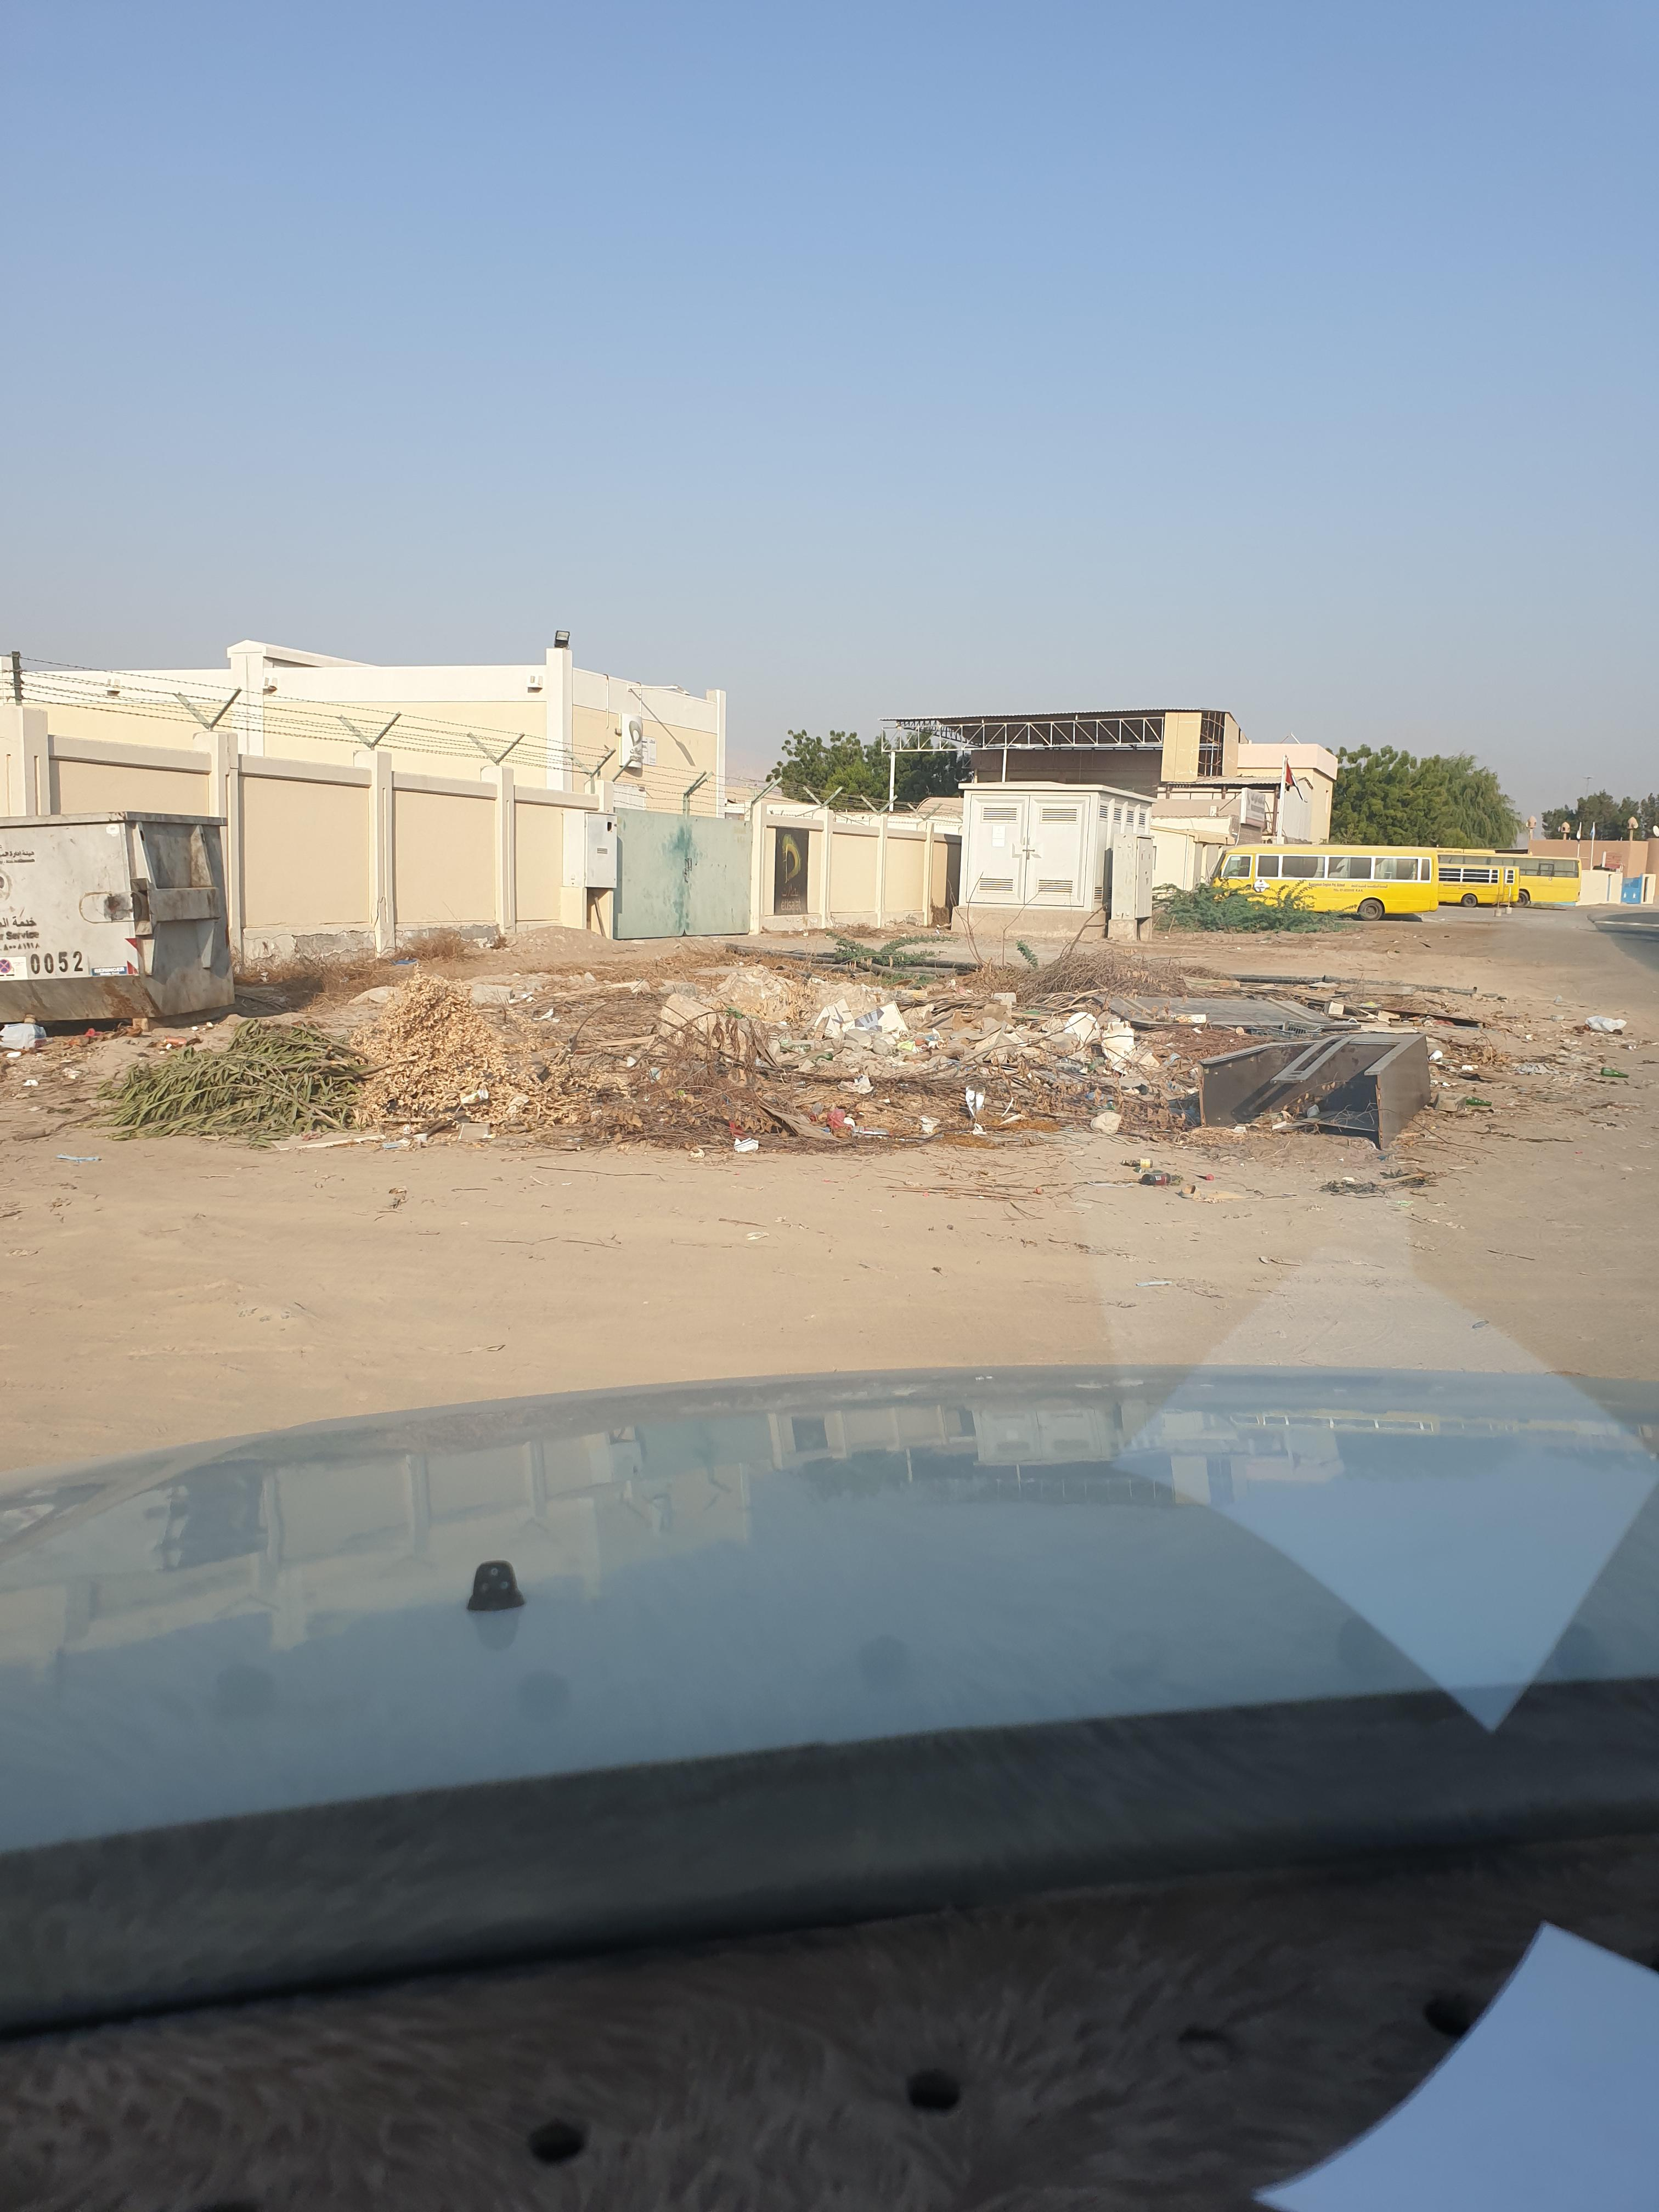fallen_trees: (410, 988, 678, 1179), (108, 1014, 390, 1151)
uncollected_waste: (1175, 1031, 1459, 1184)
